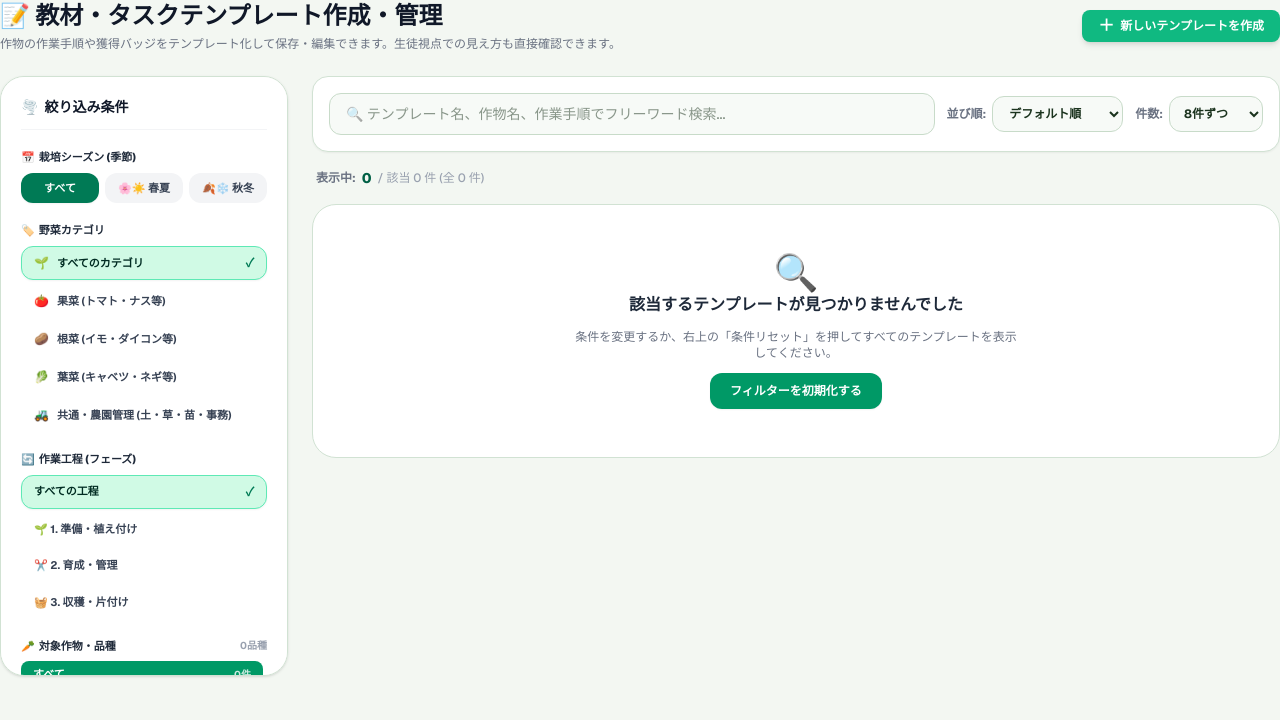
Test: R-2: 書き込みエラーのトースト通知（正常系・異常系） › 3. テンプレート管理画面での保存 (TeacherTemplatesView.handleSaveTemplate) › DB 書き込み失敗時にエラートーストが表示され、成功トーストは出ない
Step 1. Click the text "新しいテンプレートを作成" → (1192,26), box [1120,18,1264,34]
(page scrolled)
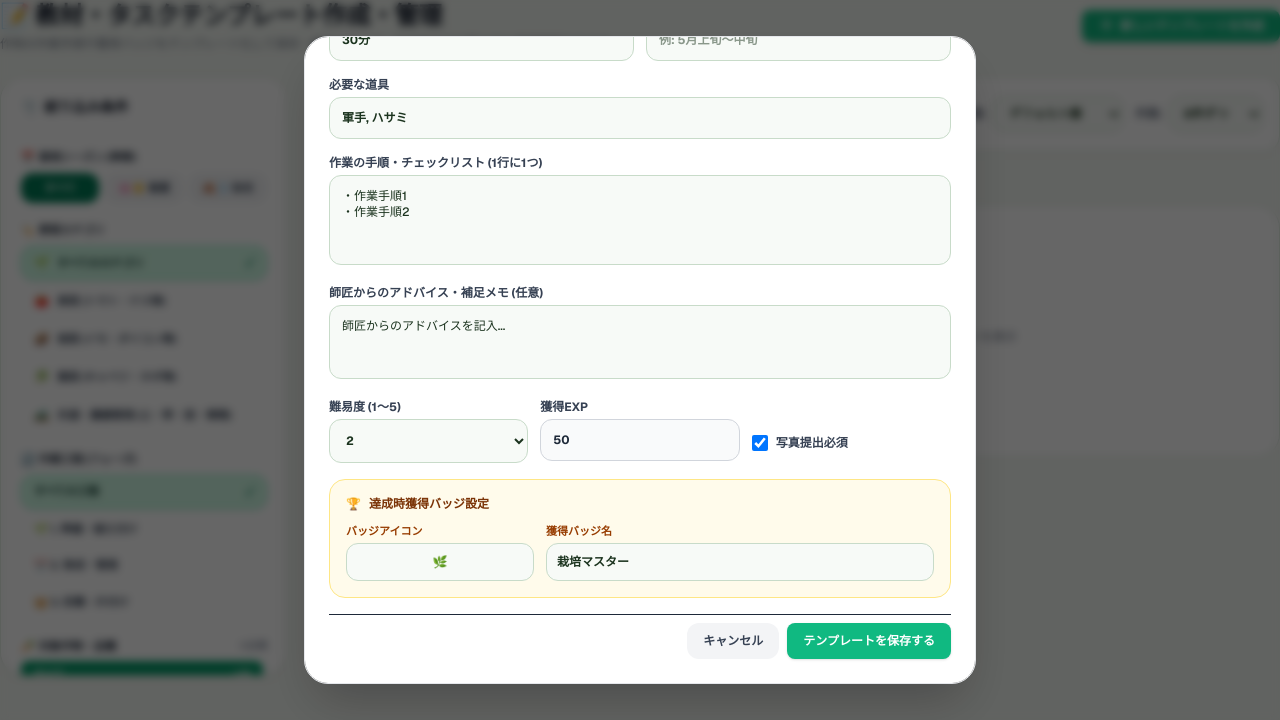
Step 2. Click the button "テンプレートを保存する" → (869,641), box [787,623,951,659]
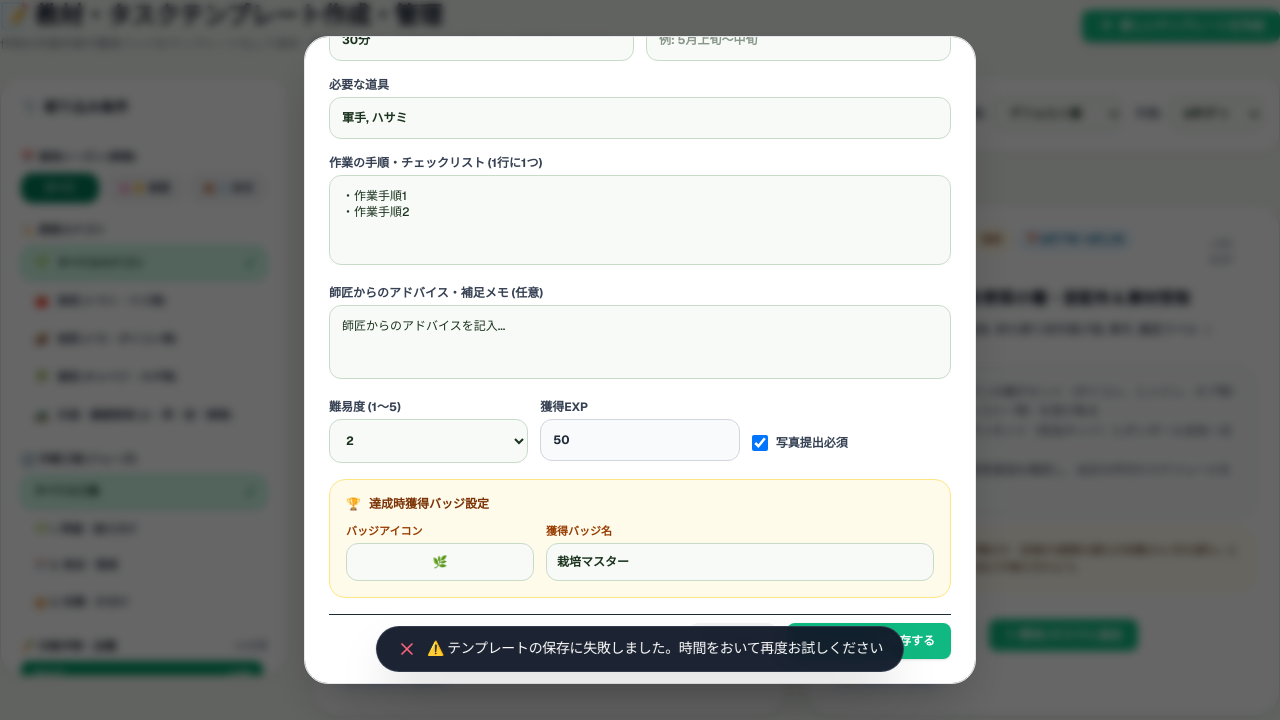
Expected: the text "⚠️ テンプレートの保存に失敗しました。時間をおいて再度お試しください" is shown, [427,639,883,659]
